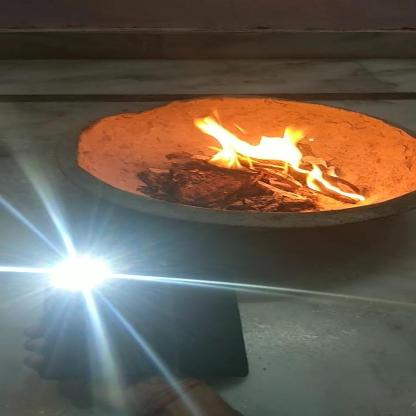fire: (185, 107, 370, 207)
